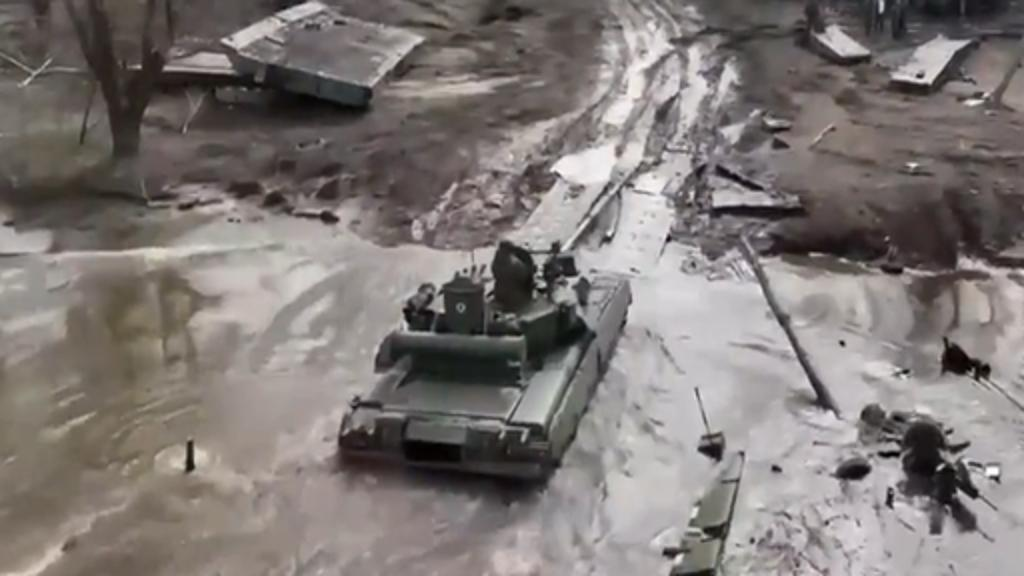TANK: (328, 164, 644, 476)
